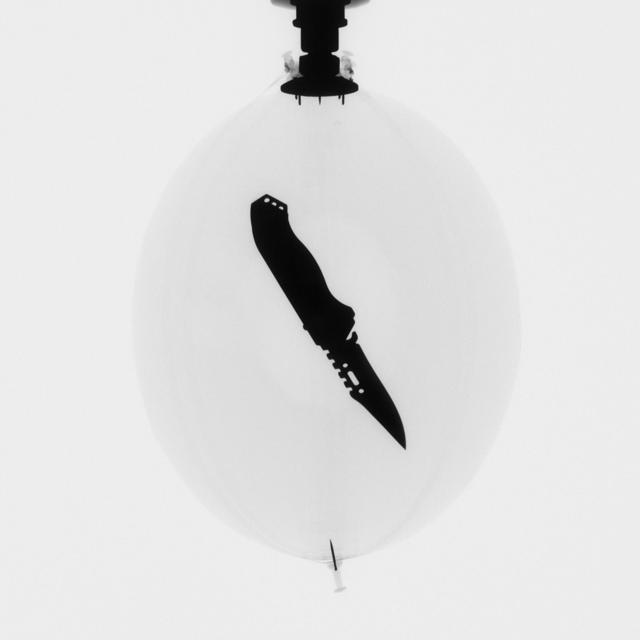knife: (247, 186, 418, 448)
